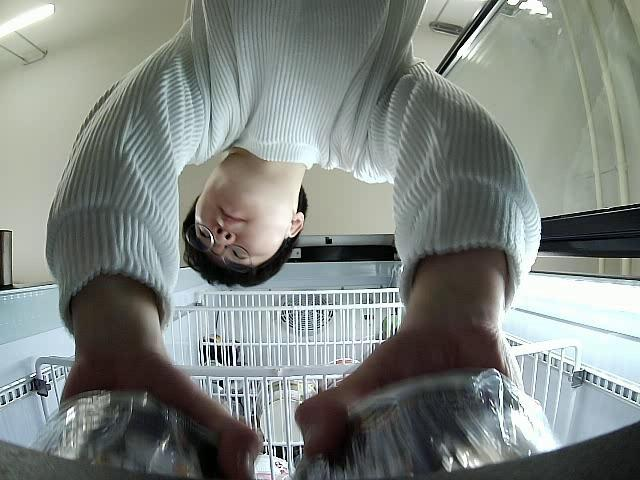07_buldak_L: (290, 368, 554, 480), (25, 395, 242, 480)
